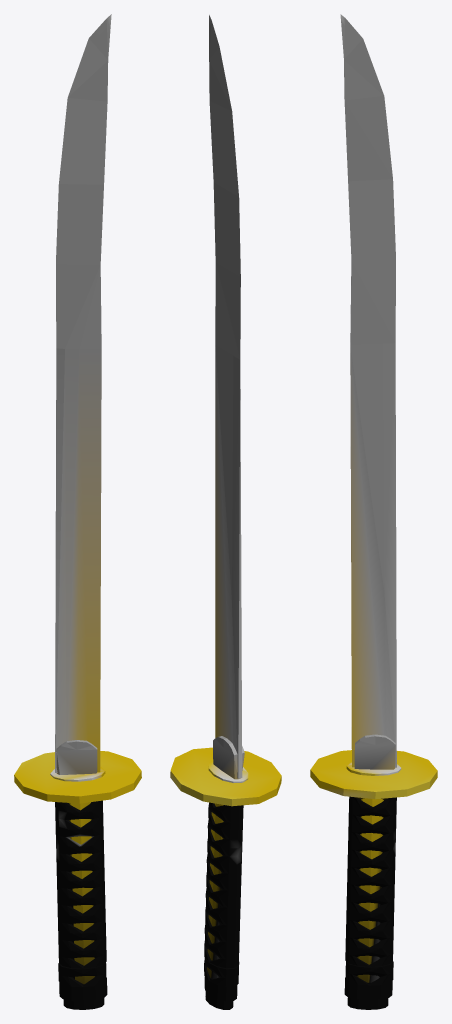
The model's file is katana.glb.
3 views of the same model, side by side, from view 1: azimuth 90°, elevation 25°; view 2: azimuth 210°, elevation 25°; view 3: azimuth 270°, elevation 25° (orthographic).
Visible parts, largest first — view 1: whisk; view 2: whisk; view 3: whisk.
Boxes of the visible parts, <box> form: whisk: <box>14,14,141,1009</box>; whisk: <box>170,15,281,1009</box>; whisk: <box>310,14,437,1009</box>.
Size of the model in its own units: 0.1351 by 1.37 by 0.1601.
